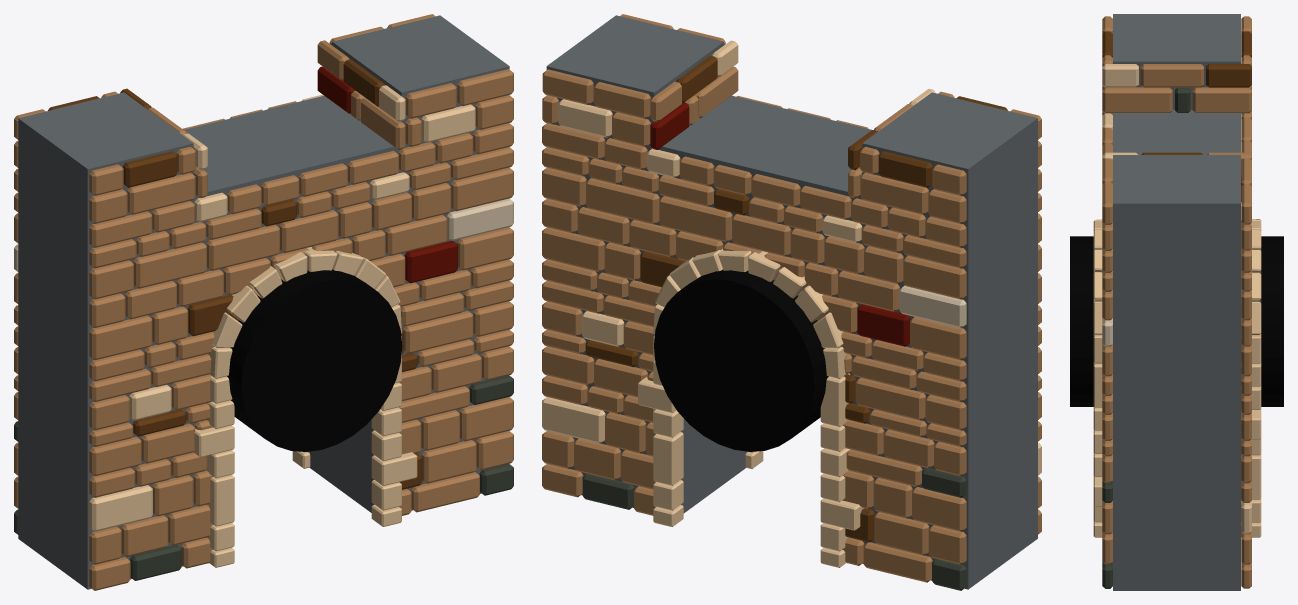
The model's file is wall-section-with-doorway-rb.glb.
3 views of the same model, side by side, from view 1: azimuth 30°, elevation 25°; view 2: azimuth 150°, elevation 25°; view 3: azimuth 270°, elevation 25° (orthographic). The views are drawn at different scales.
Parts seen in each view (by area): view 1: wall-back-lower, wall-core, wall-section-with-doorway, doorframe.001, wall-back-upper-right, wall-back-upper-left, wall-crenellation-right, wall-front-lower, wall-crenellation-left; view 2: wall-front-lower, wall-core, wall-section-with-doorway, doorframe.002, wall-front-upper-left, wall-front-upper-right, wall-crenellation-right, wall-back-lower, wall-crenellation-left; view 3: wall-core, wall-section-with-doorway, wall-crenellation-left, wall-front-lower, wall-back-lower, doorframe.002, doorframe.001, wall-front-upper-left, wall-back-upper-right, wall-crenellation-right, wall-back-upper-left, wall-front-upper-right.
Part boxes in pixels (x1,y1,x2,y2): wall-back-lower: [89, 123, 513, 590]; wall-core: [18, 15, 509, 589]; wall-section-with-doorway: [227, 269, 402, 451]; doorframe.001: [193, 247, 417, 567]; wall-back-upper-right: [405, 69, 513, 146]; wall-back-upper-left: [89, 146, 195, 223]; wall-crenellation-right: [317, 40, 405, 149]; wall-front-lower: [14, 94, 323, 534]; wall-crenellation-left: [120, 88, 207, 197]; wall-front-lower: [542, 123, 966, 590]; wall-core: [546, 15, 1037, 589]; wall-section-with-doorway: [654, 269, 828, 451]; doorframe.002: [638, 249, 863, 567]; wall-front-upper-left: [542, 69, 650, 146]; wall-front-upper-right: [860, 146, 966, 223]; wall-crenellation-right: [650, 40, 738, 149]; wall-back-lower: [736, 96, 1041, 534]; wall-crenellation-left: [848, 89, 935, 198]; wall-core: [1113, 14, 1240, 590]; wall-section-with-doorway: [1070, 236, 1283, 406]; wall-crenellation-left: [1102, 64, 1251, 113]; wall-front-lower: [1241, 111, 1251, 588]; wall-back-lower: [1102, 111, 1112, 588]; doorframe.002: [1241, 219, 1261, 537]; doorframe.001: [1093, 219, 1102, 537]; wall-front-upper-left: [1241, 158, 1251, 250]; wall-back-upper-right: [1102, 158, 1112, 250]; wall-crenellation-right: [1102, 152, 1251, 201]; wall-back-upper-left: [1102, 16, 1112, 89]; wall-front-upper-right: [1241, 16, 1251, 89].
Bounding box in the file's own units: 3.05 × 2.9 × 1.45.
